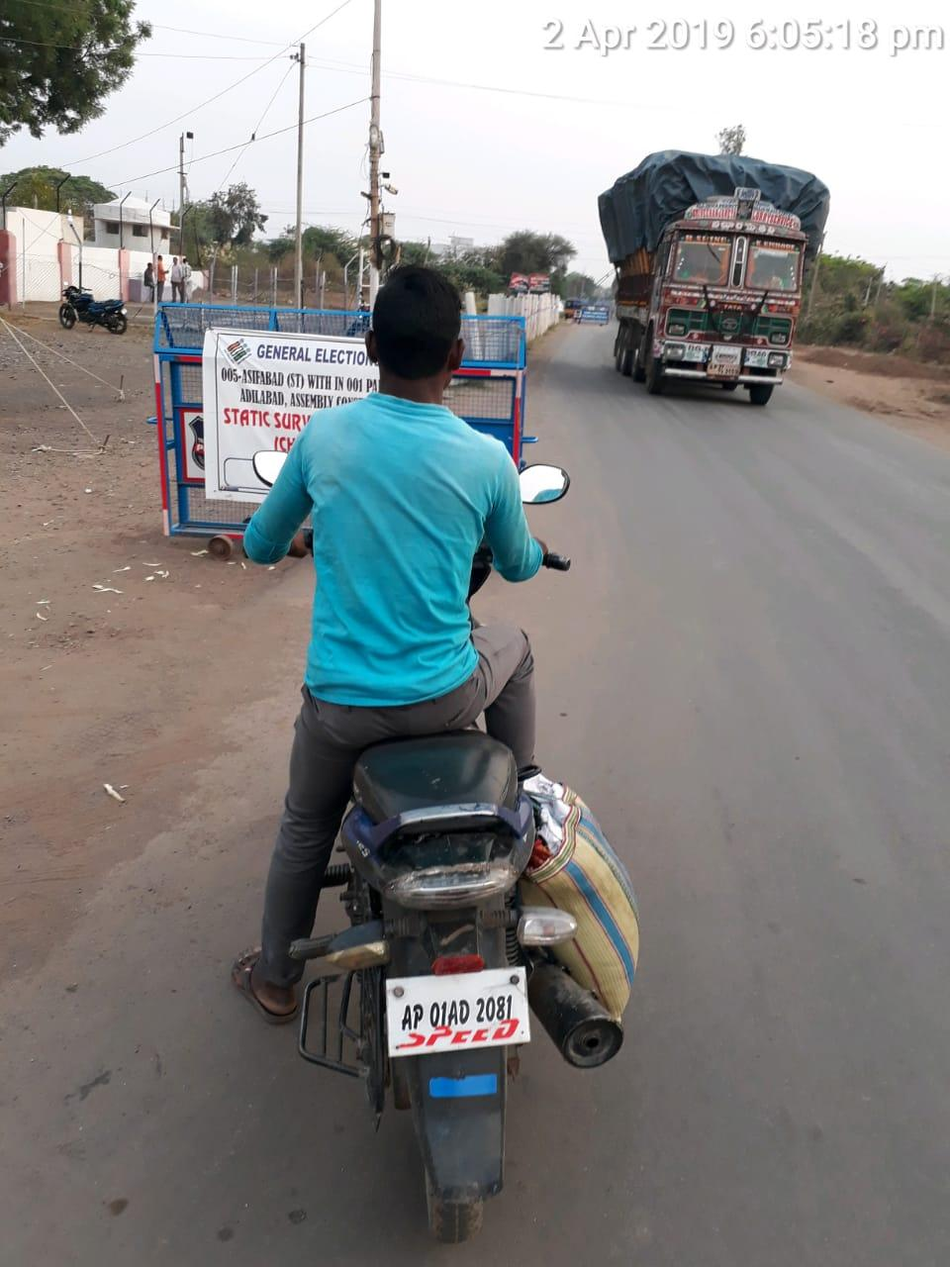plate: (361, 951, 547, 1065)
